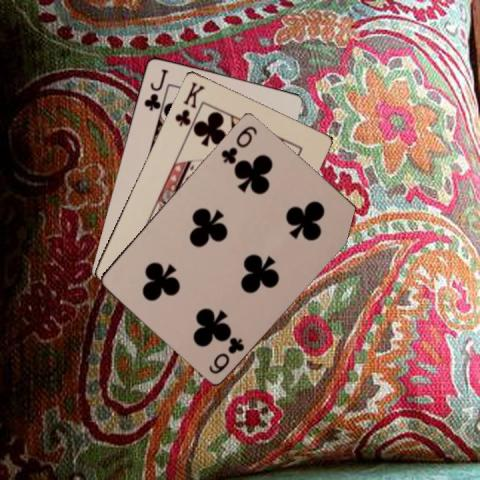6c: (218, 122, 259, 165), (205, 334, 246, 376)
Jc: (140, 65, 168, 112)
Kc: (171, 78, 206, 127)
